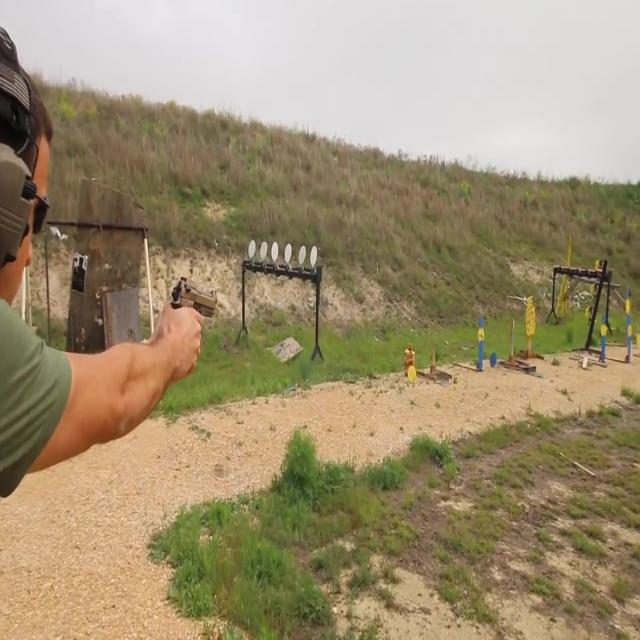Weapon: (158, 262, 232, 350)
